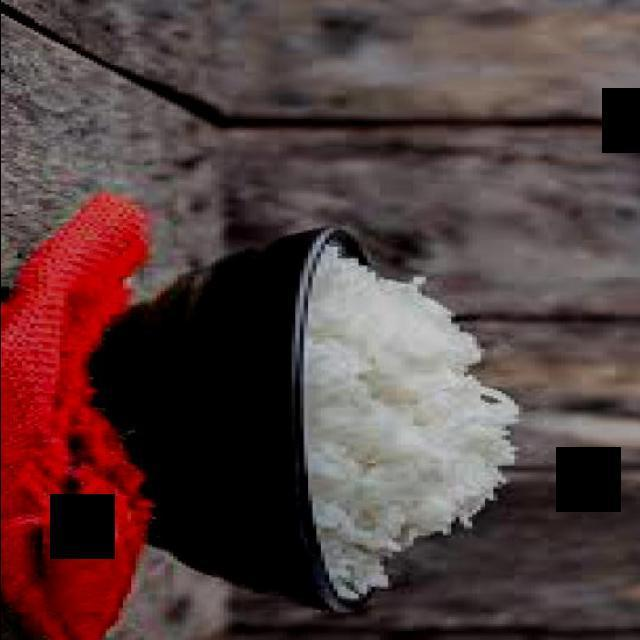Chicken -Chicken Inasal-: (307, 241, 517, 595)
